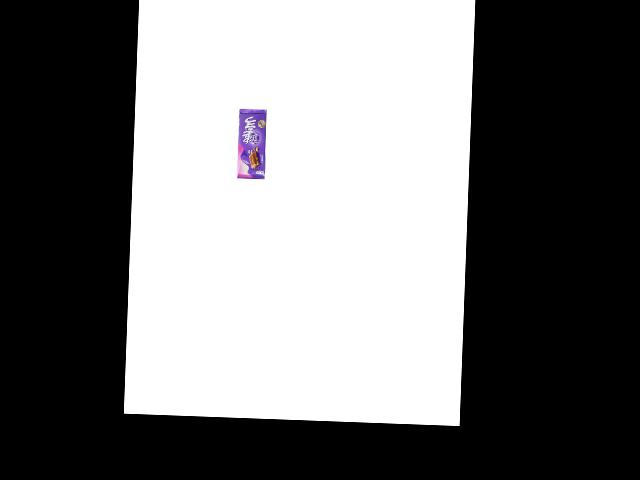chocolate: (236, 108, 268, 179)
